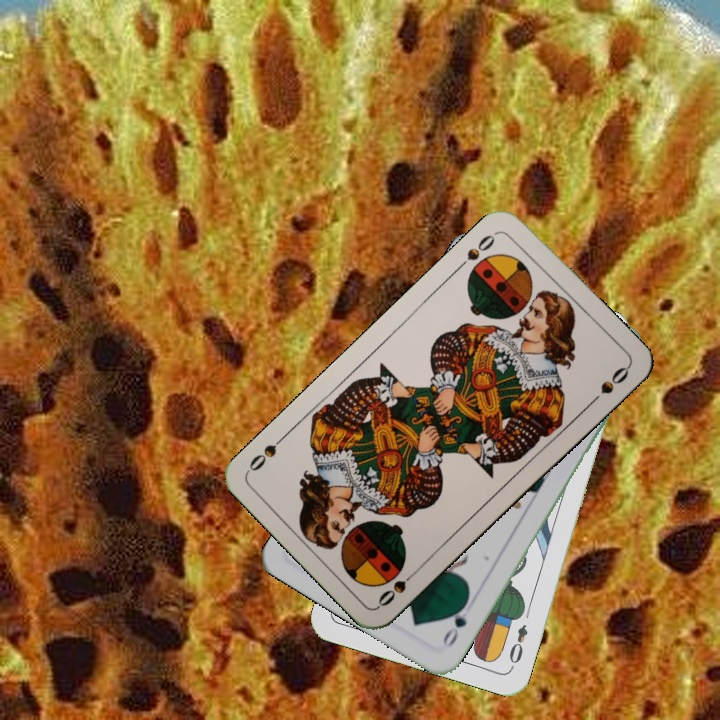EO: (505, 620, 531, 671)
GO: (438, 596, 471, 650)
SO: (373, 564, 422, 609), (453, 228, 501, 273)
